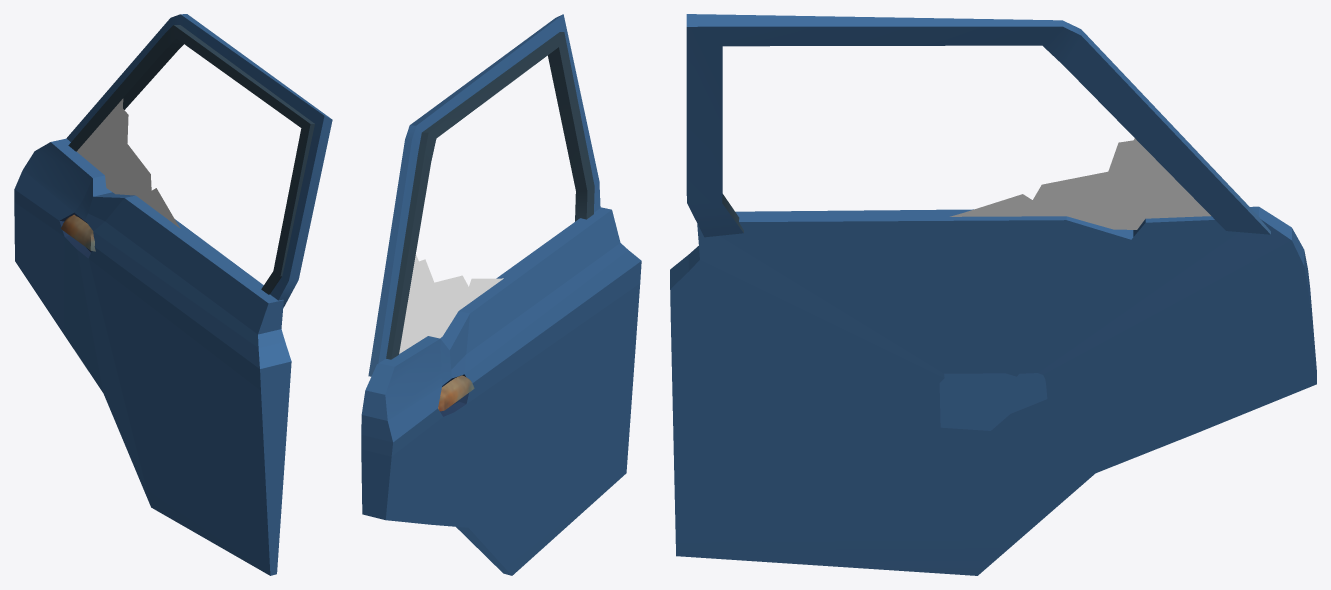
File: Test_ruchka.fbx
The picture shows the model from 3 angles, left to right: view 1: azimuth 30°, elevation 25°; view 2: azimuth 150°, elevation 25°; view 3: azimuth 270°, elevation 25°; orthographic projection. The views are drawn at different scales.
Visible parts, largest first — view 1: back_door_t1; view 2: back_door_t1; view 3: back_door_t1.
Boxes of the visible parts, left/top/right/bottom form: back_door_t1: left=14, top=14, right=332, bottom=575; back_door_t1: left=361, top=14, right=641, bottom=575; back_door_t1: left=670, top=14, right=1316, bottom=575.
Bounding box in the file's own units: 15.46 × 83.56 × 82.22.
